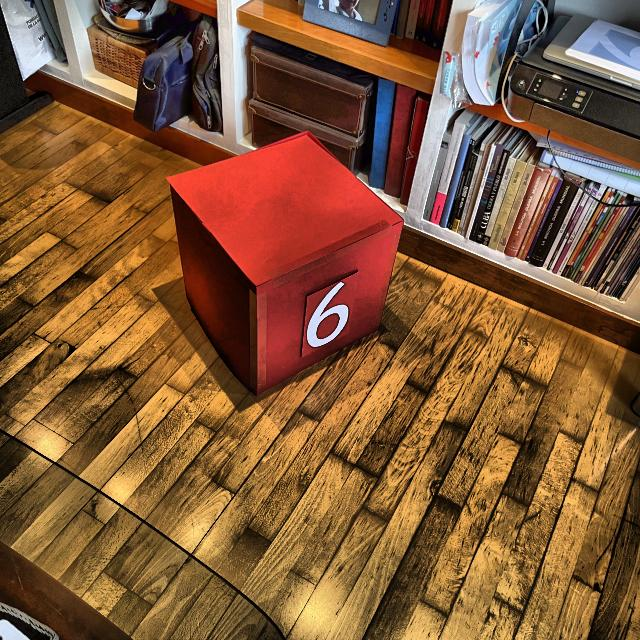red box: (166, 132, 405, 398)
six: (306, 281, 354, 347)
